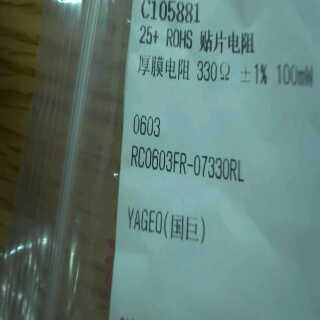330R: (195, 57, 232, 85)
